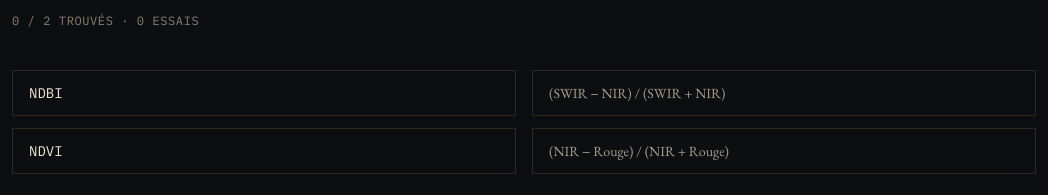
Scenario: MatchingGame › marks a correct pair as solved and increments the counter
Click the button "NDVI" at [46, 151], box [12, 128, 516, 174]
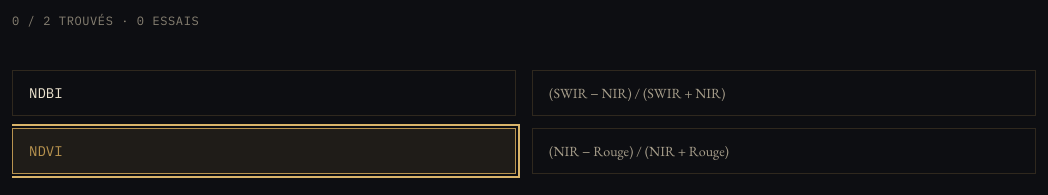
Click the button "(NIR − Rouge) / (NIR + Rouge)" at [639, 151], box [532, 128, 1036, 174]
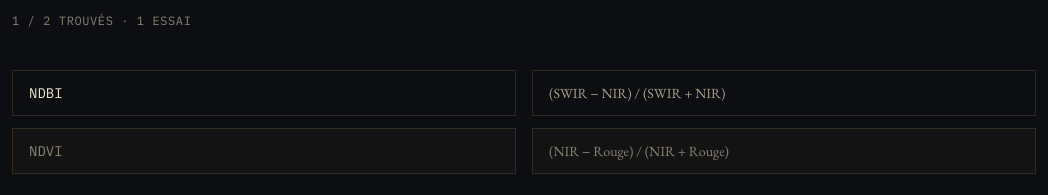
Now the text "1 / 2 trouvés · 1 essai" is shown, box [12, 13, 192, 28]
